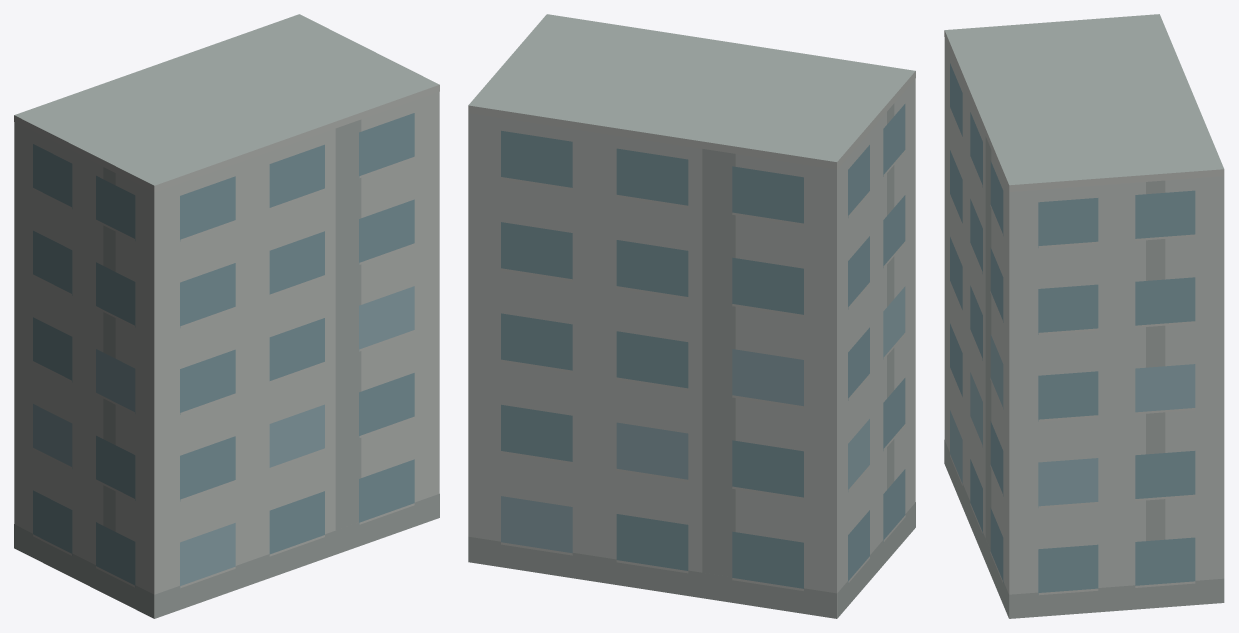
Rendered from residential-11a3e087-00a0-43e7-a3a7-0d8ad68b241e.glb.
The picture shows the model from 3 angles, left to right: view 1: azimuth 30°, elevation 25°; view 2: azimuth 150°, elevation 25°; view 3: azimuth 270°, elevation 25°; orthographic projection. The views are drawn at different scales.
Parts seen in each view (by area): view 1: residential-11a3e087-00a0-43e7-a3a7-0d8ad68b241e.tmp; view 2: residential-11a3e087-00a0-43e7-a3a7-0d8ad68b241e.tmp; view 3: residential-11a3e087-00a0-43e7-a3a7-0d8ad68b241e.tmp.
Part boxes in pixels (x1,y1,x2,y2): residential-11a3e087-00a0-43e7-a3a7-0d8ad68b241e.tmp: [14, 14, 439, 618]; residential-11a3e087-00a0-43e7-a3a7-0d8ad68b241e.tmp: [468, 14, 915, 618]; residential-11a3e087-00a0-43e7-a3a7-0d8ad68b241e.tmp: [944, 14, 1224, 618].
Bounding box in the file's own units: 12.92 × 15.25 × 8.93.
